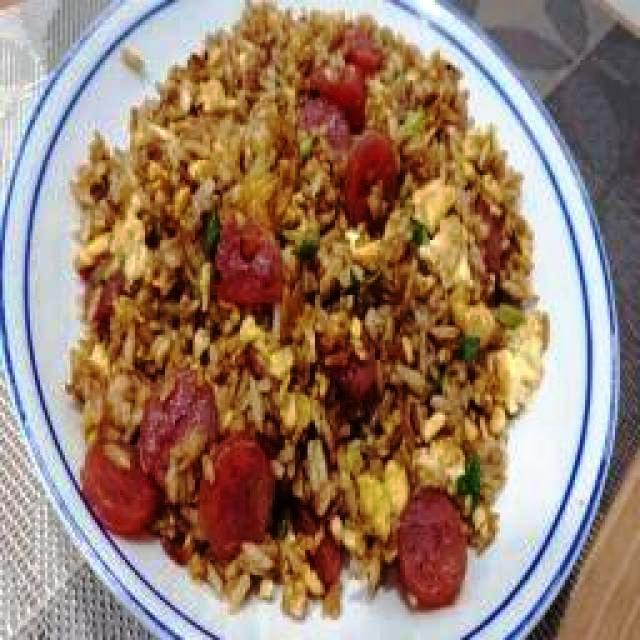Fried Rice: (75, 0, 548, 609)
chinese_sausage: (200, 437, 273, 559), (137, 372, 216, 483), (397, 486, 468, 607), (81, 435, 160, 537), (339, 133, 401, 231), (213, 228, 282, 309)
